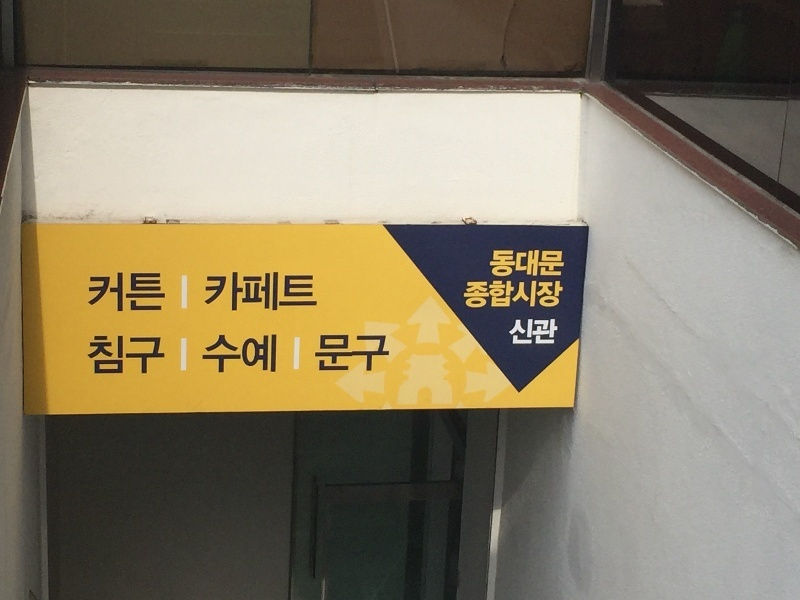text: (97, 272, 112, 314), (113, 272, 128, 314), (129, 272, 144, 314), (145, 272, 160, 314), (209, 272, 224, 313), (225, 272, 240, 313), (241, 272, 256, 313), (257, 272, 272, 313), (273, 272, 288, 313), (289, 272, 304, 313), (97, 335, 112, 375), (113, 335, 128, 375), (129, 335, 144, 375), (145, 335, 160, 375), (209, 335, 224, 375), (225, 335, 240, 375), (241, 335, 256, 375), (257, 335, 272, 375), (321, 335, 336, 373), (337, 335, 352, 373), (353, 335, 368, 373), (369, 335, 384, 373), (305, 272, 318, 313), (465, 282, 480, 311), (481, 282, 496, 311), (497, 282, 512, 311), (513, 282, 528, 311), (529, 282, 544, 311), (545, 282, 560, 311), (497, 251, 512, 278), (513, 251, 528, 278), (529, 251, 544, 278), (545, 251, 560, 278), (513, 320, 528, 347), (529, 320, 544, 347), (545, 320, 559, 347), (87, 335, 96, 375), (88, 272, 96, 314), (202, 335, 208, 375), (385, 335, 391, 373), (161, 272, 166, 314), (273, 335, 278, 375), (490, 251, 496, 278), (161, 335, 165, 375), (316, 335, 320, 373), (561, 282, 565, 311), (561, 251, 565, 278), (206, 272, 208, 313), (510, 320, 512, 347)
